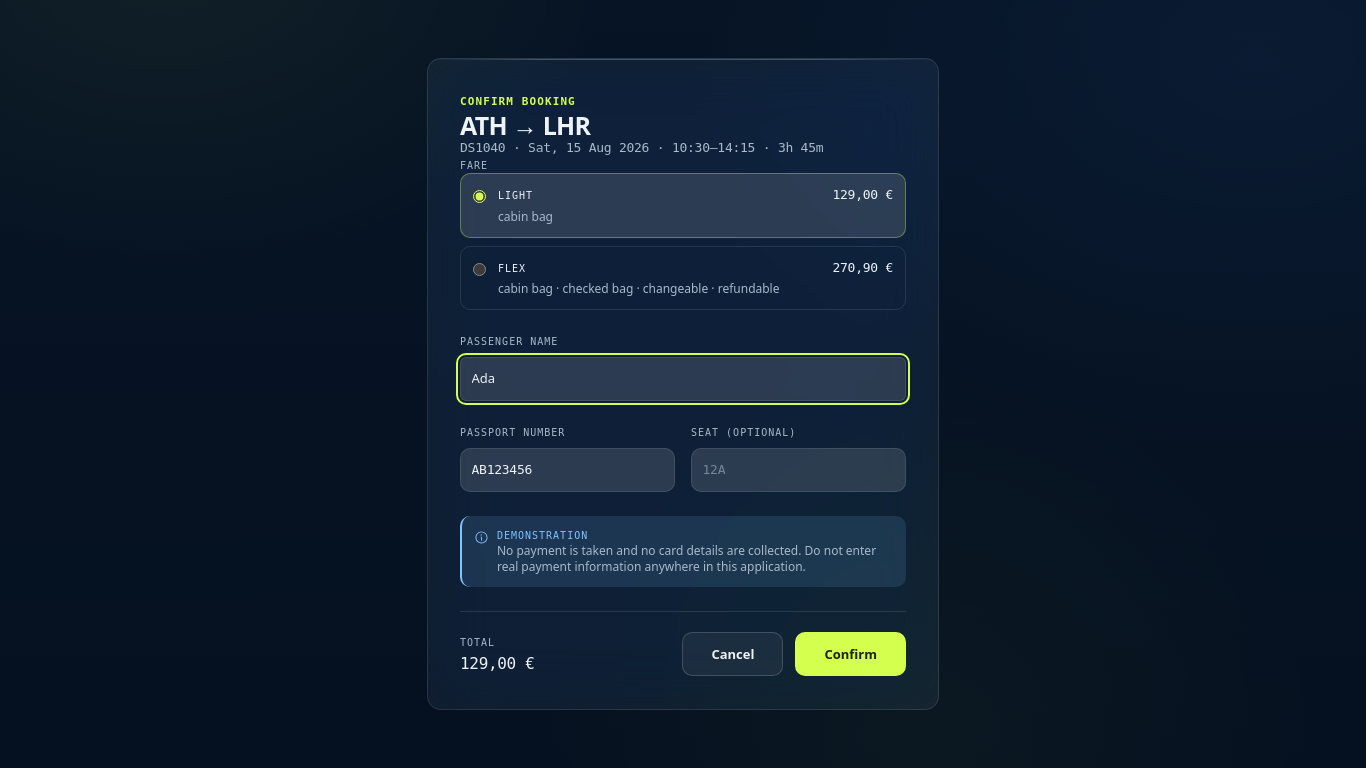
it: BookingDialog › failure › states the money position when the server says nothing useful
Click the button "Confirm" at x=851, y=654, box top-left (796, 632), bottom-right (906, 676)
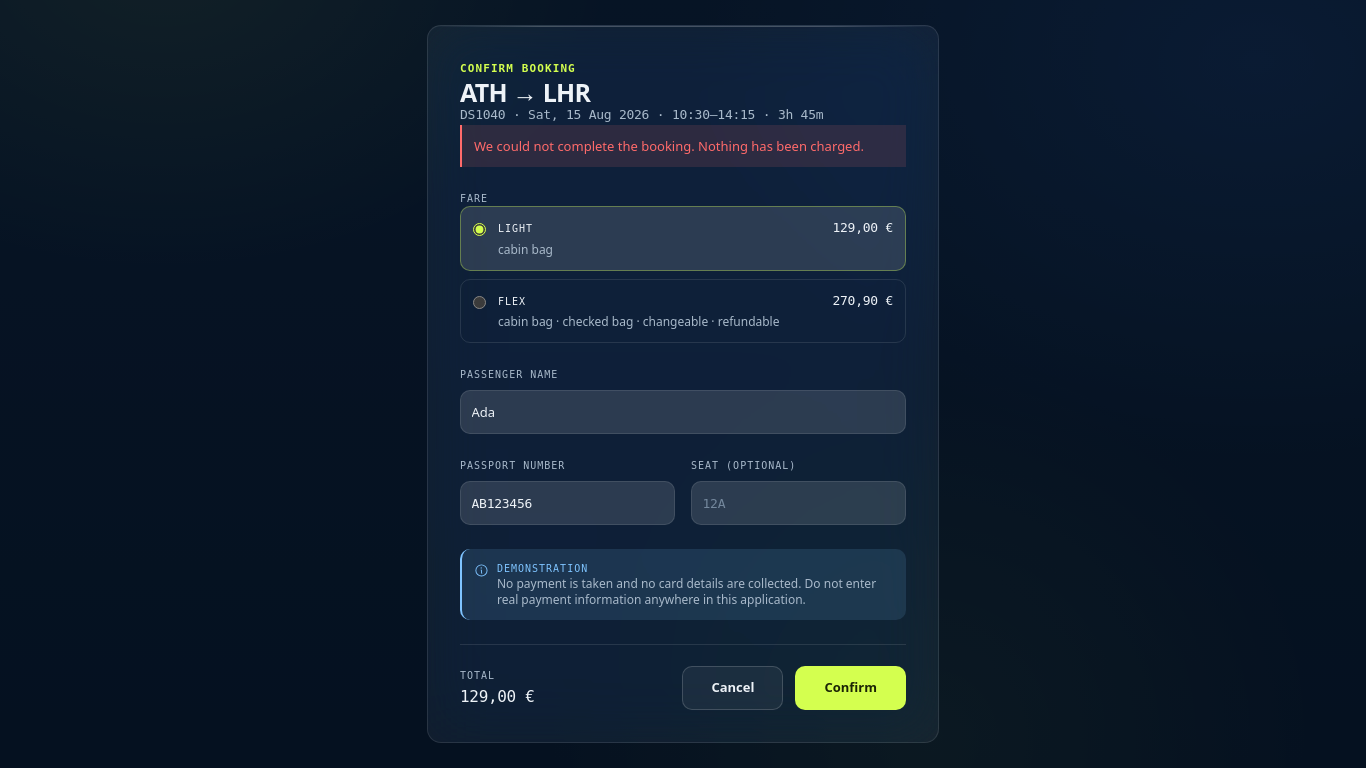
expect the message shows "Nothing has been charged": met, box top-left (474, 137), bottom-right (864, 155)
